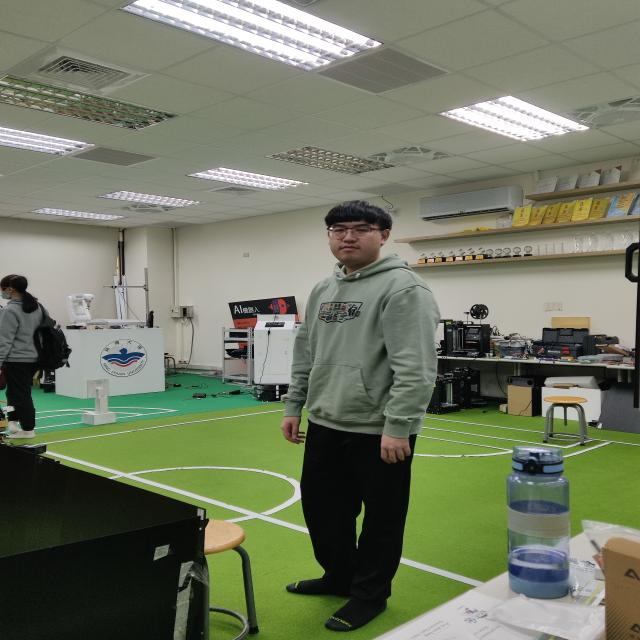person: (274, 198, 447, 633), (0, 263, 80, 433)
